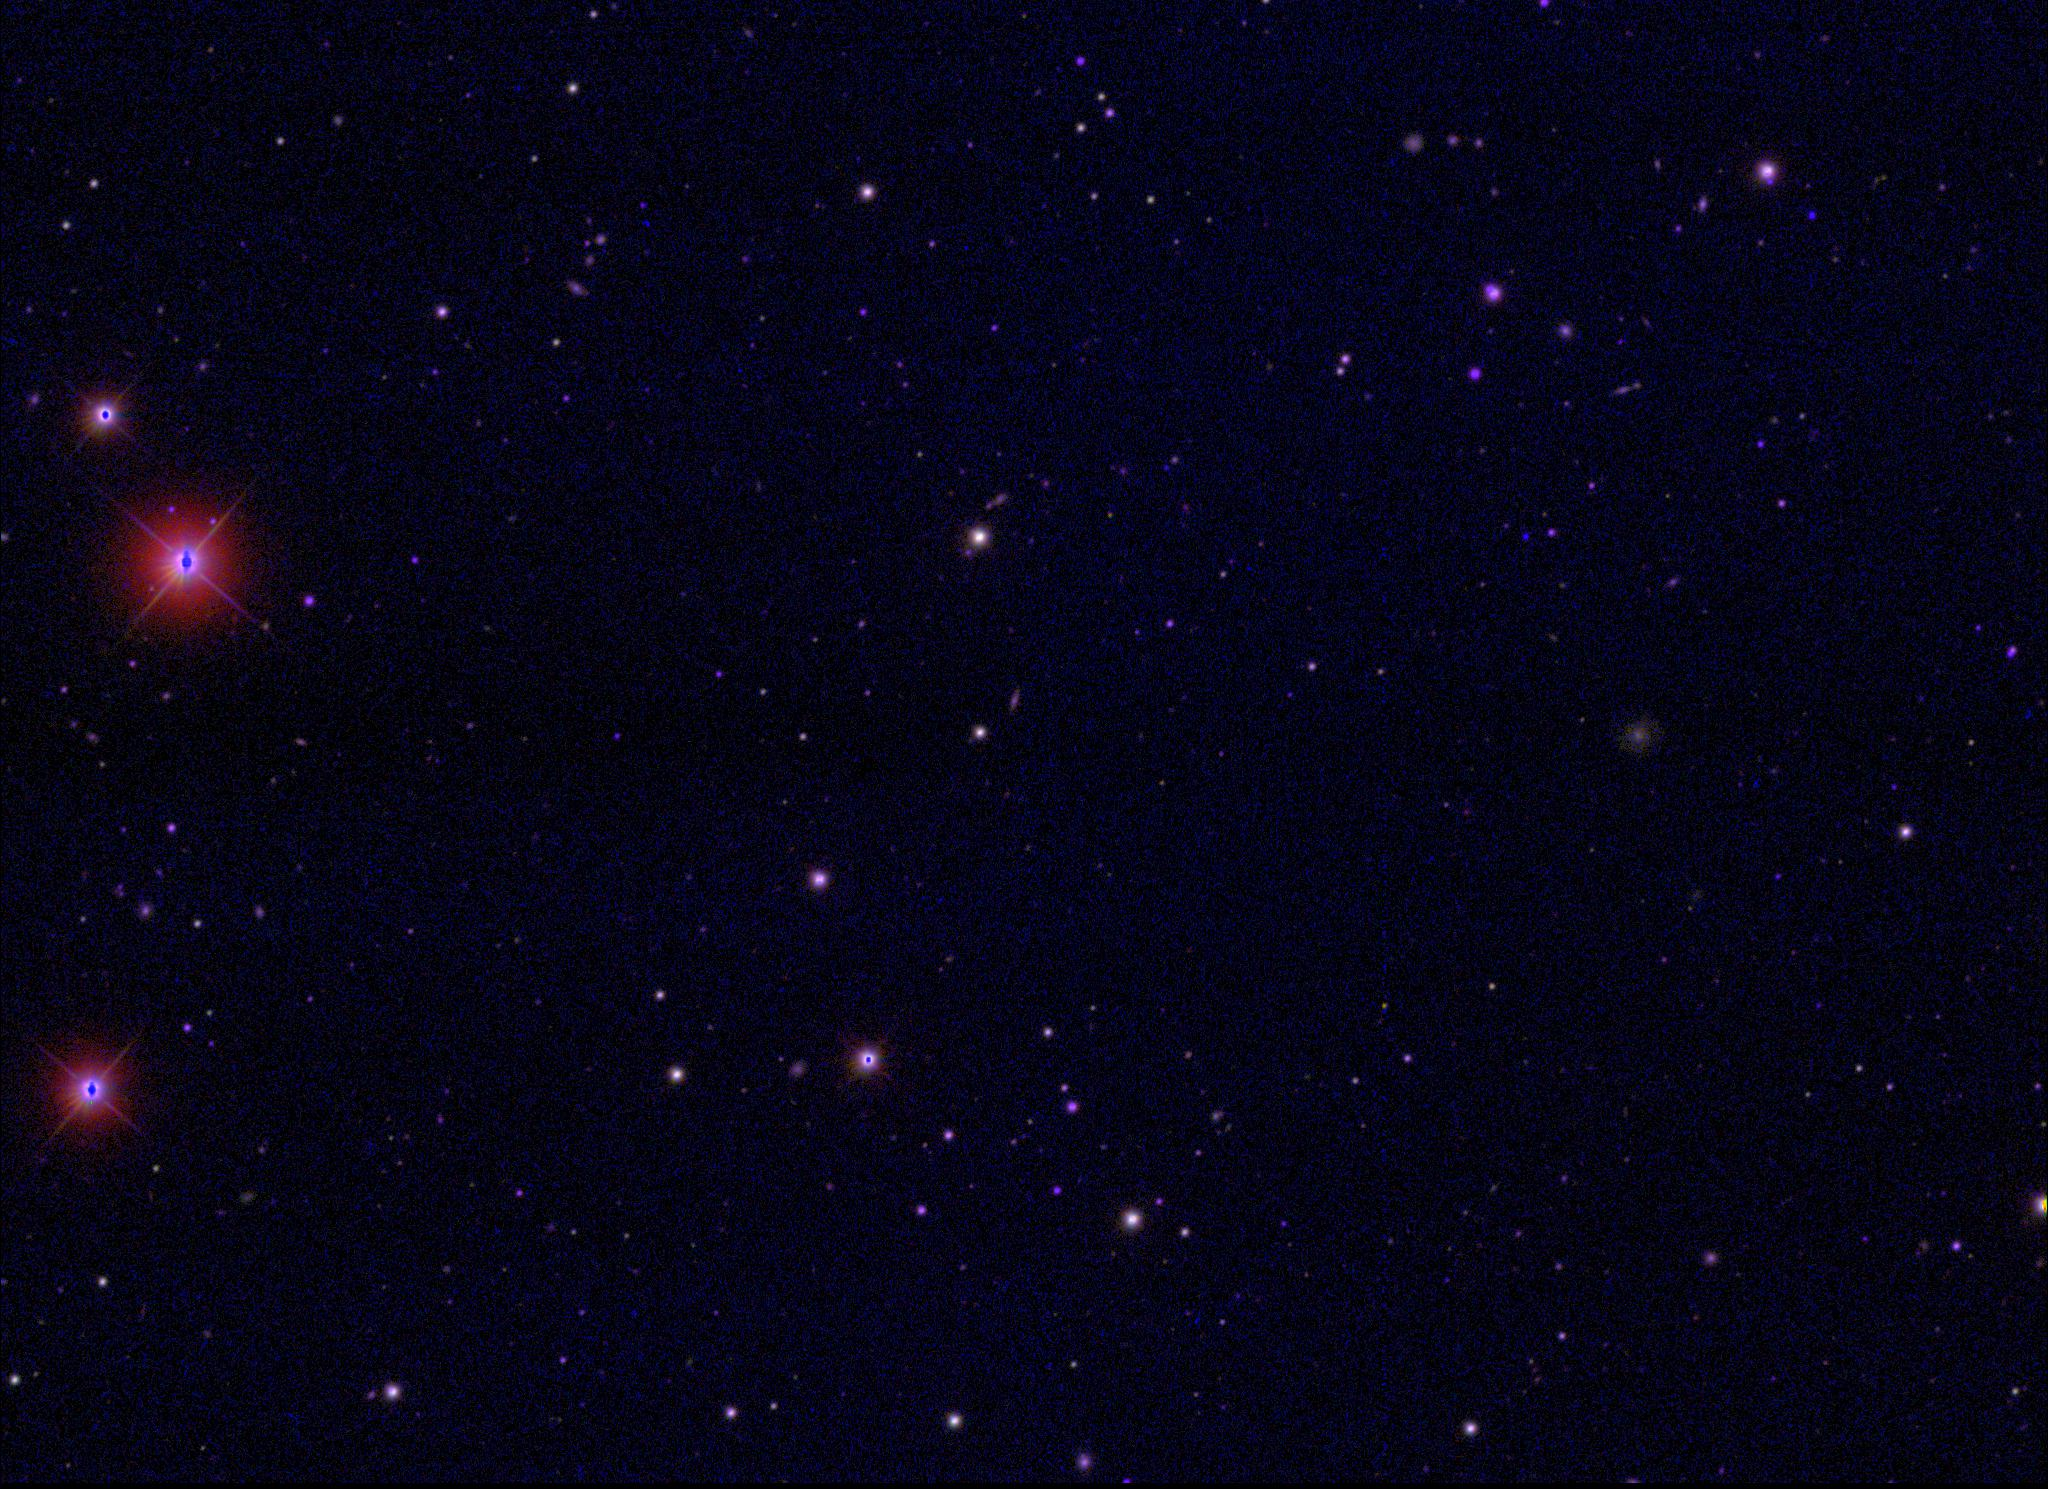L: (1519, 530, 1533, 542)
